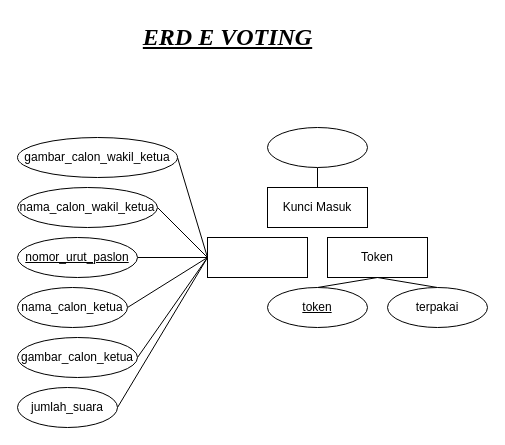
Some shapes in this 505 by 445 pixel diagram are drawn without their labels. Each missing label, with the box of its shape:
Paslon: (206, 236, 308, 278)
password: (266, 126, 368, 168)
